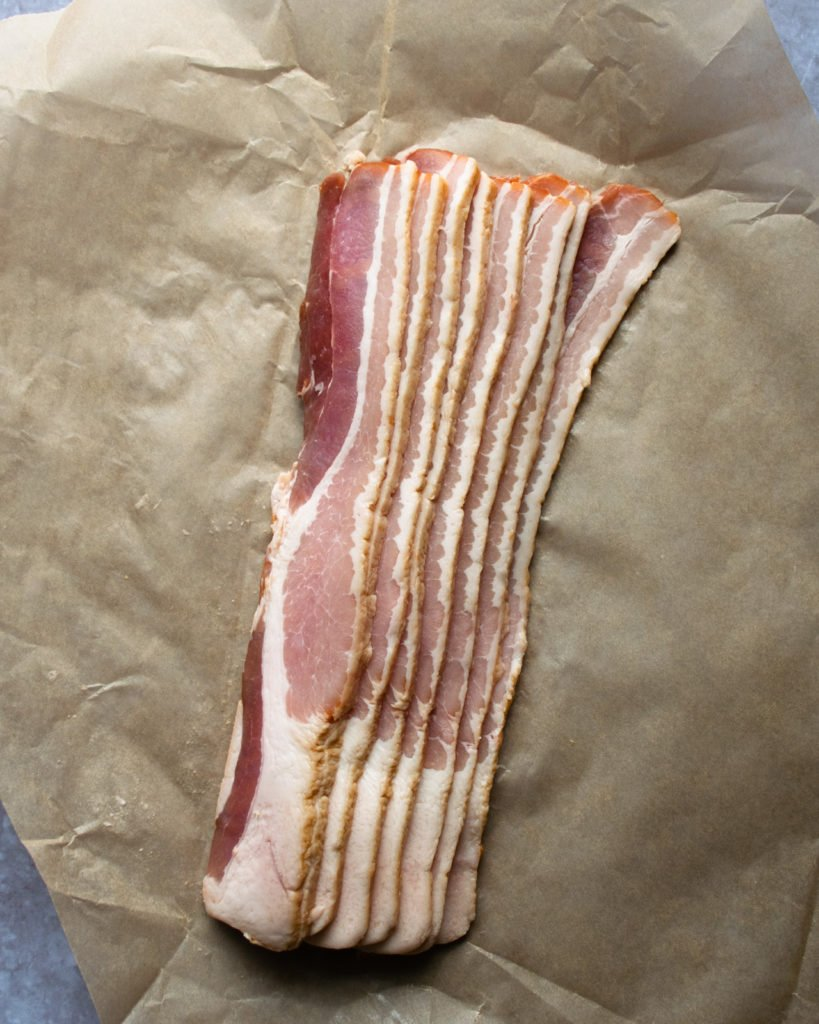bacon: (185, 129, 647, 983)
